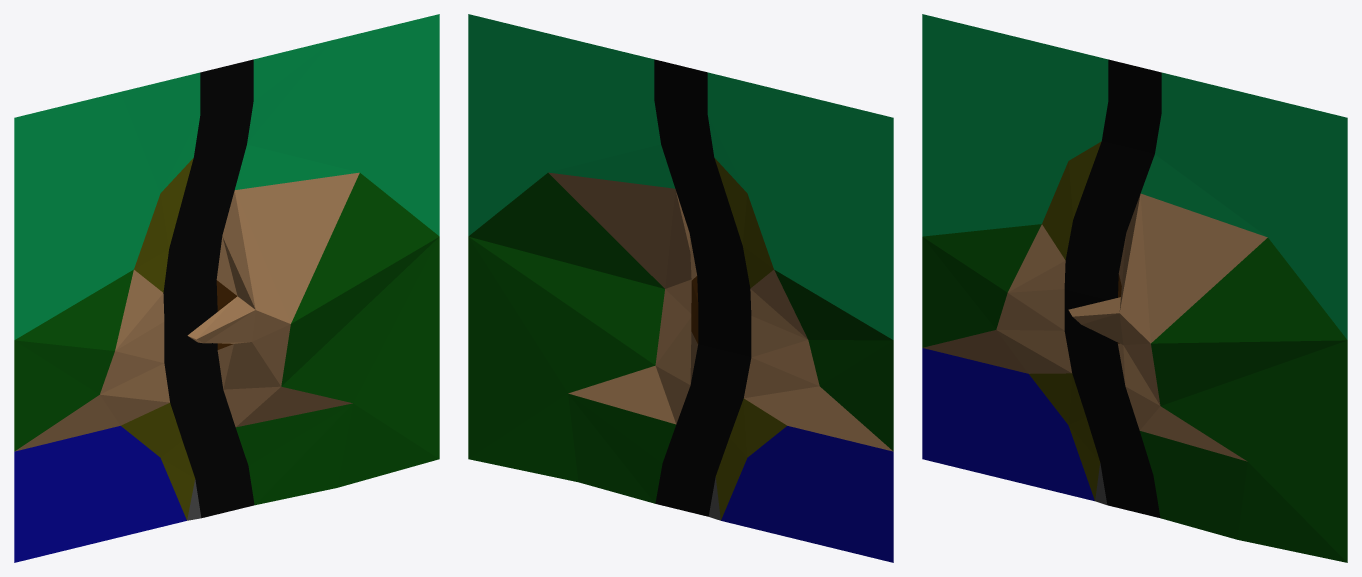
File: tiles3_2.obj
3 views of the same model, side by side, from view 1: azimuth 30°, elevation 25°; view 2: azimuth 150°, elevation 25°; view 3: azimuth 330°, elevation 25° (orthographic).
Size of the model in its own units: 40.96 by 40.96 by 4.
